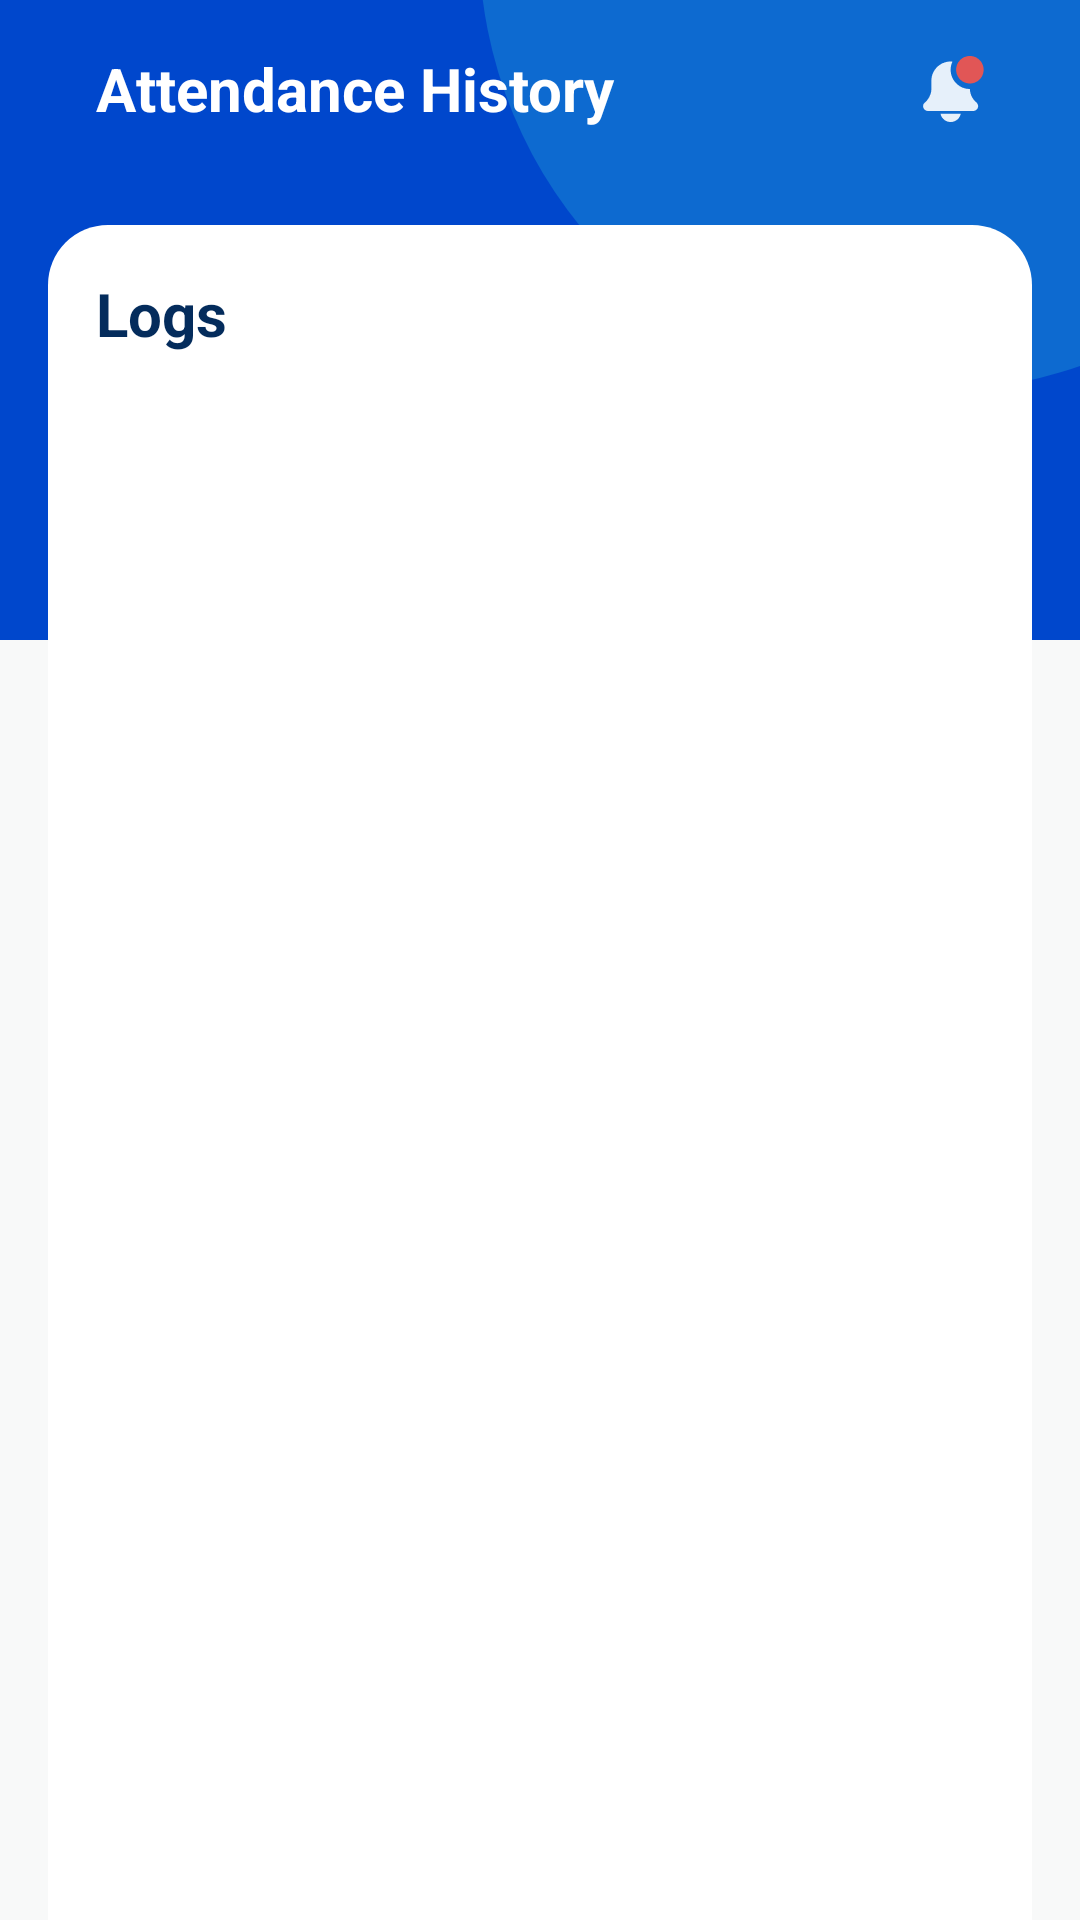

Icon bounding boxes for this 1080 × 1920 phone screenshot, format (x1, y1, x2, y2):
notification: (923, 56, 984, 122)
